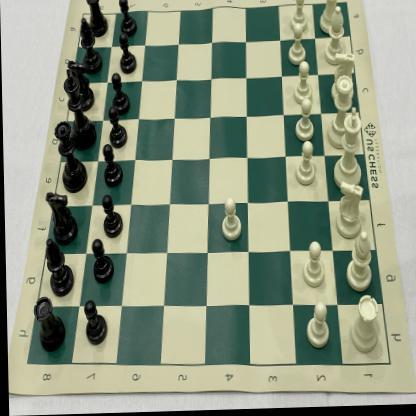black-bishop: (43, 236, 73, 298), (79, 15, 102, 76)
black-king: (63, 68, 96, 152)
black-knight: (45, 188, 77, 244), (66, 59, 94, 113)
black-pawn: (81, 300, 107, 348), (90, 237, 114, 286), (107, 106, 132, 151), (100, 194, 123, 240), (101, 144, 124, 189), (109, 73, 131, 118), (118, 33, 140, 77), (119, 0, 138, 39)
black-queen: (53, 119, 87, 193)
black-rook: (30, 295, 66, 354), (84, 0, 109, 40)
white-bishop: (344, 231, 375, 295), (322, 4, 349, 68)
white-king: (331, 108, 366, 194)
white-knight: (333, 180, 369, 242), (329, 52, 357, 107)
white-pawn: (300, 239, 327, 291), (303, 302, 331, 351), (292, 140, 318, 190), (218, 194, 243, 245), (291, 62, 315, 108), (293, 99, 317, 145), (286, 24, 308, 70), (288, 0, 311, 35)
white-queen: (325, 77, 357, 154)
white-rook: (346, 296, 381, 358), (318, 0, 344, 39)
